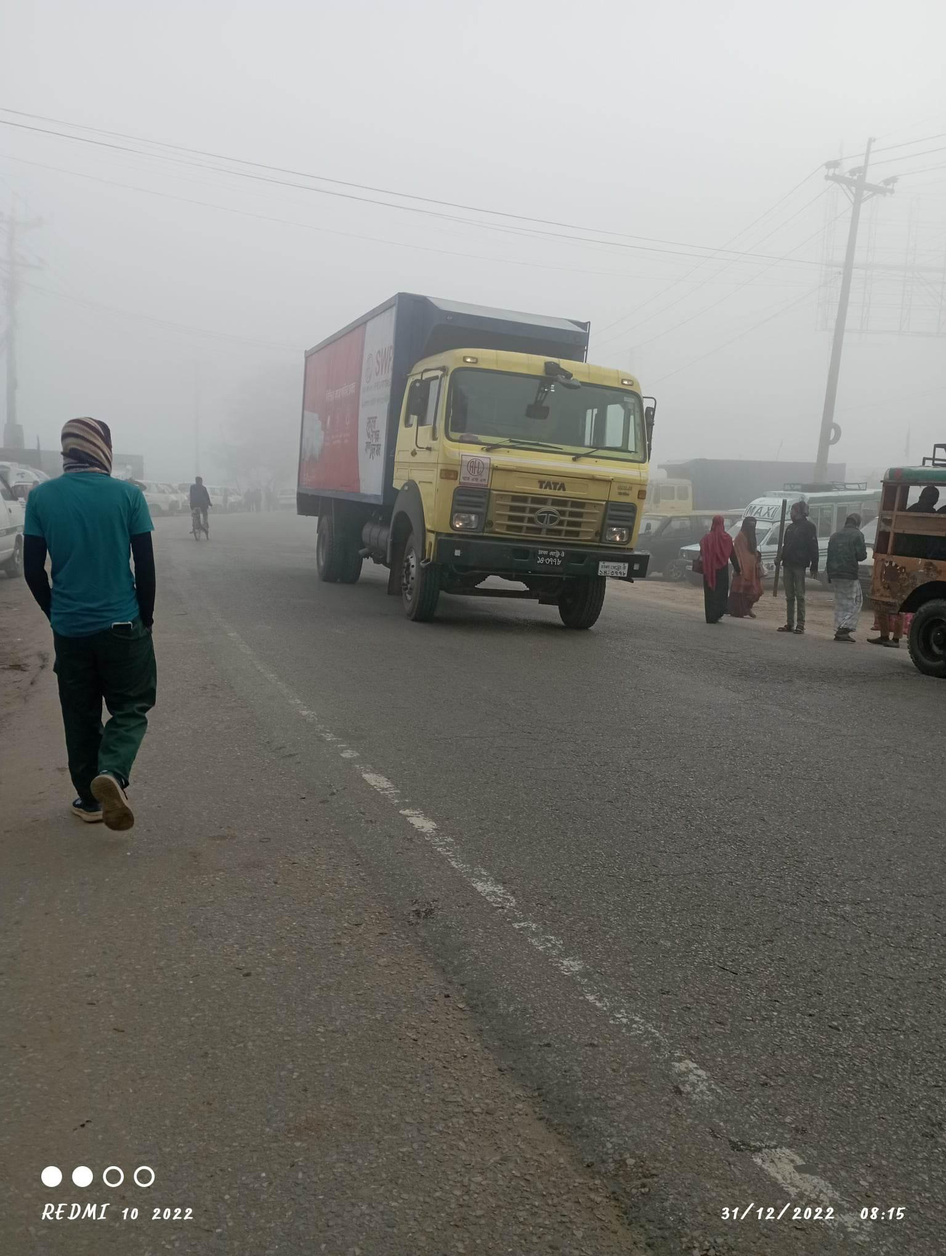Car: (683, 468, 895, 599)
Truck: (263, 272, 677, 666)
